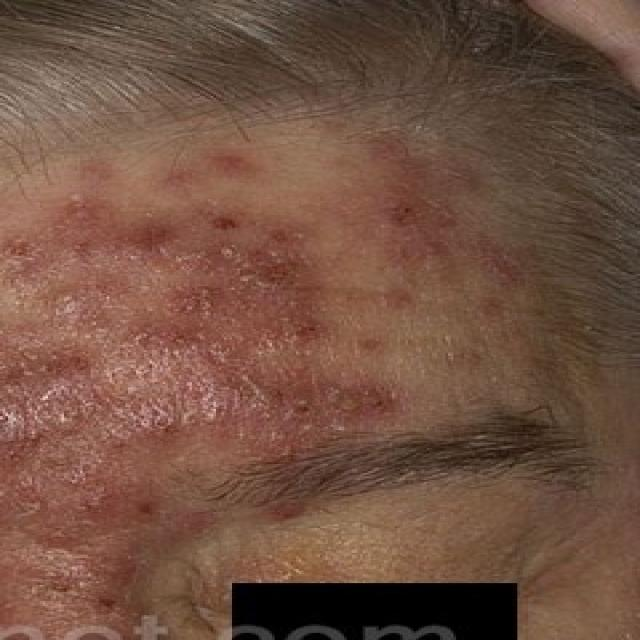Rosacea: (0, 206, 429, 417)
